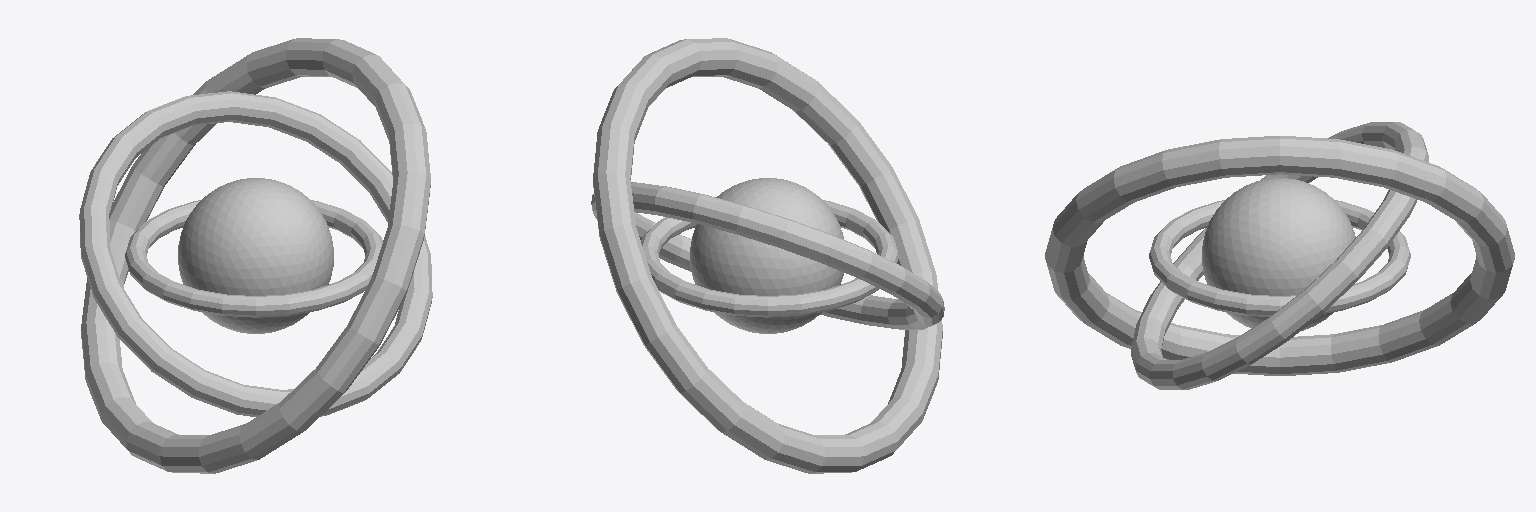
The model's file is complex_torus.obj.
3 renders of one model, left to right at view 1: azimuth 30°, elevation 25°; view 2: azimuth 150°, elevation 25°; view 3: azimuth 270°, elevation 25°, orthographic.
Visible parts, largest first — view 1: Torus.003, Torus.002, Icosphere, Torus.001; view 2: Torus.003, Torus.002, Icosphere, Torus.001; view 3: Torus.003, Torus.002, Icosphere, Torus.001.
Boxes of the visible parts, x1=… form: Torus.003: x1=81, y1=38, x2=430, y2=473; Torus.002: x1=79, y1=91, x2=432, y2=416; Icosphere: x1=178, y1=178, x2=333, y2=333; Torus.001: x1=125, y1=200, x2=382, y2=317; Torus.003: x1=593, y1=38, x2=942, y2=473; Torus.002: x1=591, y1=182, x2=944, y2=329; Icosphere: x1=690, y1=178, x2=843, y2=333; Torus.001: x1=641, y1=200, x2=898, y2=317; Torus.003: x1=1045, y1=136, x2=1514, y2=375; Torus.002: x1=1131, y1=122, x2=1428, y2=389; Icosphere: x1=1202, y1=178, x2=1355, y2=330; Torus.001: x1=1149, y1=200, x2=1410, y2=316.
Bounding box in the file's own units: 4.76 × 4.89 × 6.02.